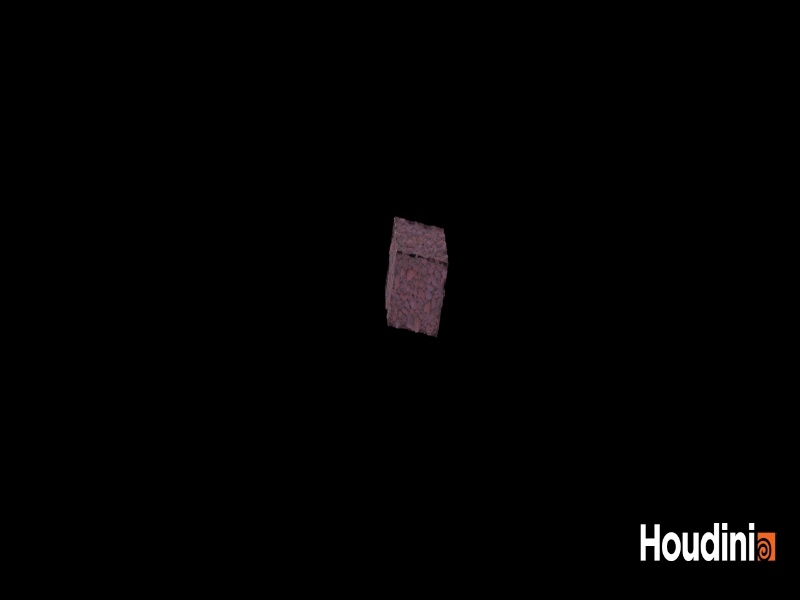waste: (374, 204, 456, 349)
